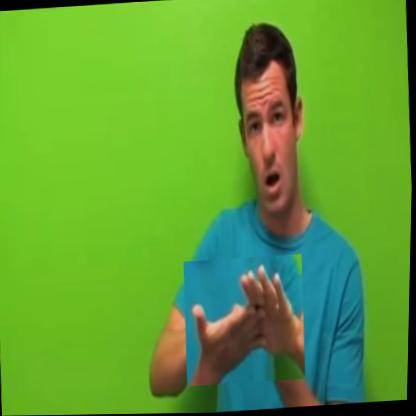NiceToMeetYou: (182, 254, 309, 387)
